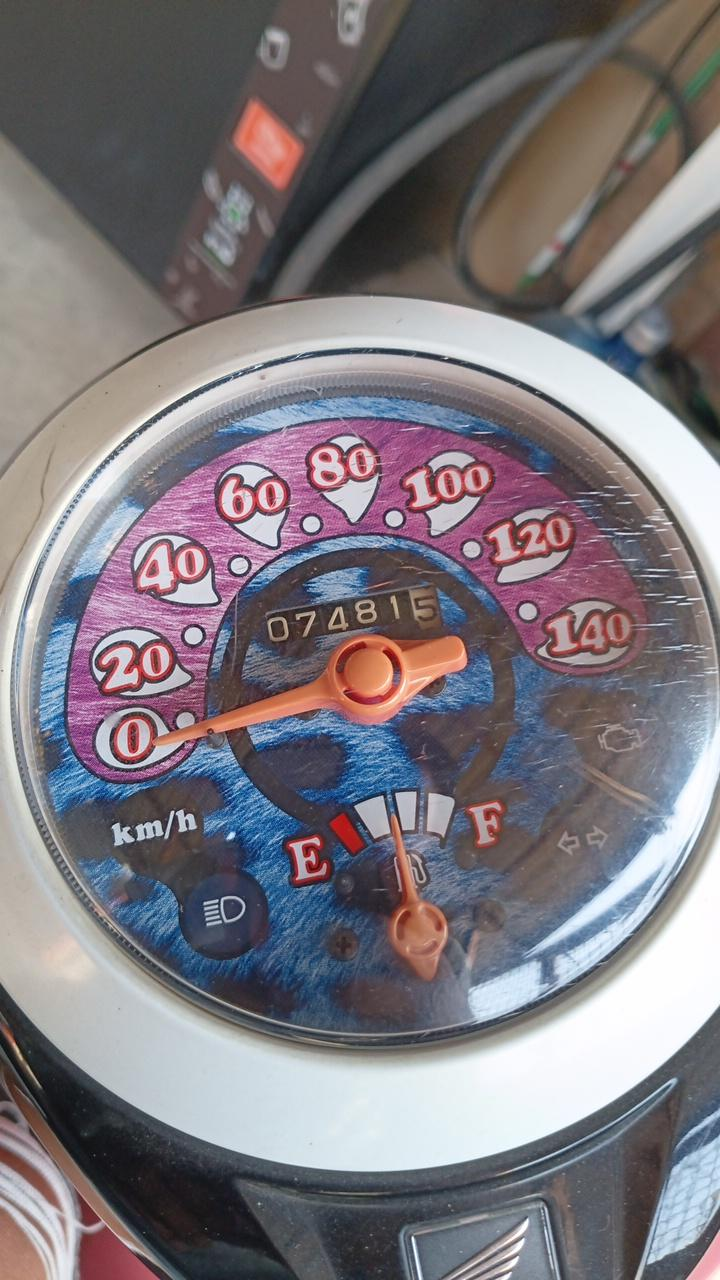0: (266, 616, 290, 642)
1: (389, 594, 401, 621)
4: (326, 605, 349, 633)
5: (413, 594, 437, 622)
7: (294, 610, 318, 639)
8: (354, 598, 378, 624)
odometer: (263, 580, 443, 651)
